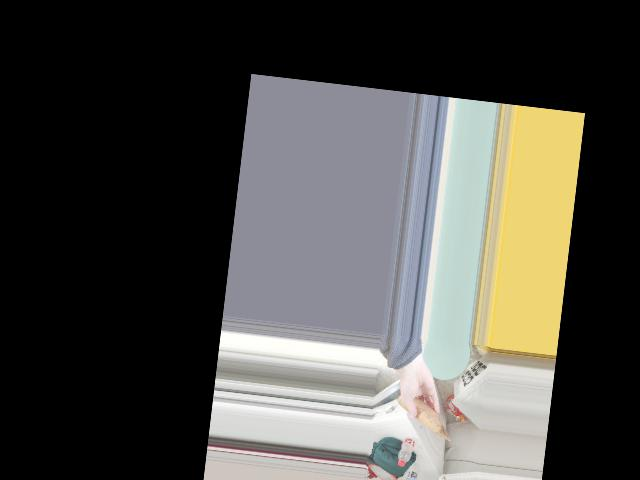sweet_potato: (396, 389, 436, 424)
